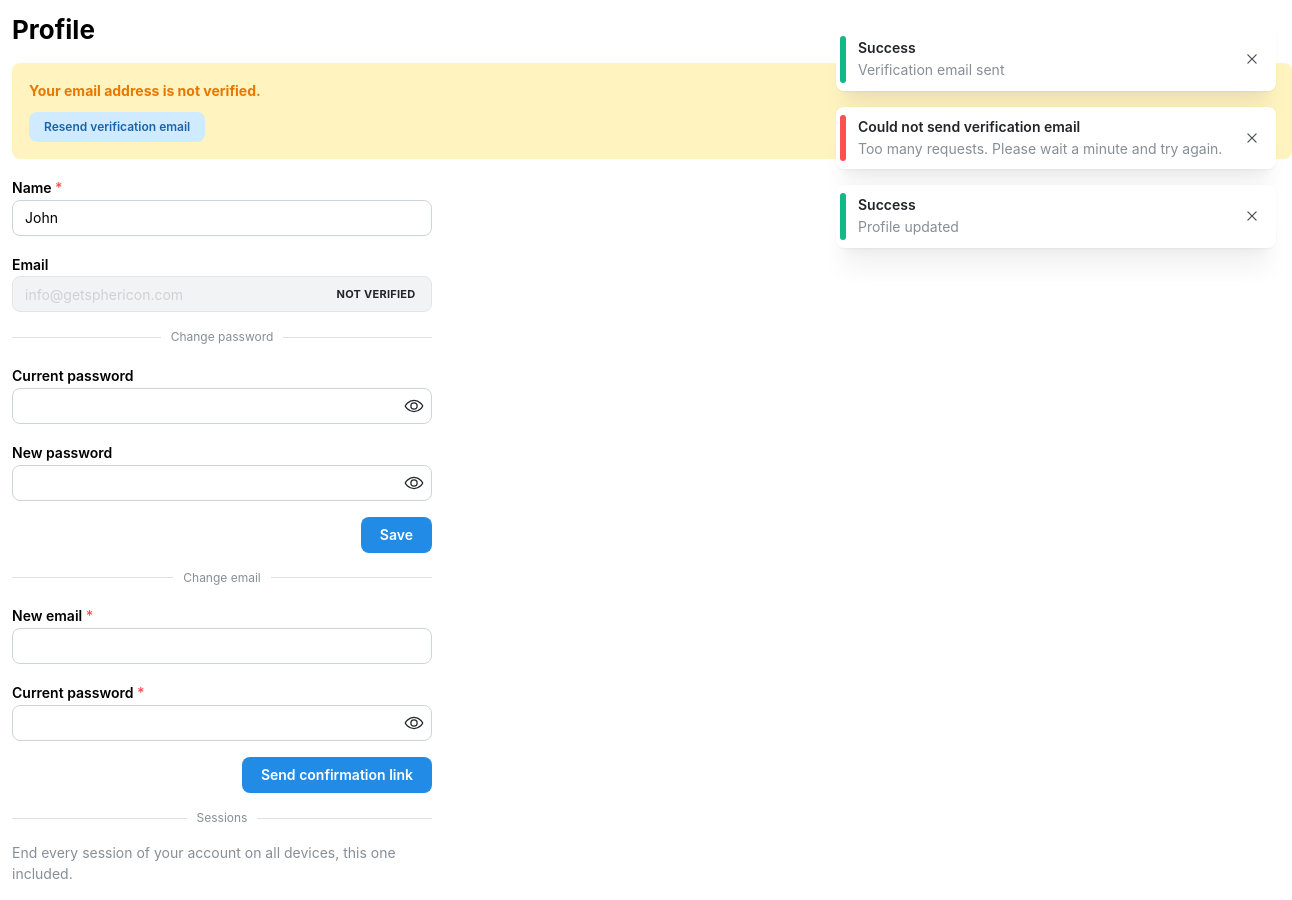
Test: reports a failed profile update
This screenshot has width=1292, height=900.
Expected: the field labelled "Name *" holds "John", [12,200,432,236]
Click the button "Save".
click(396, 535)  # box [361,517,432,553]
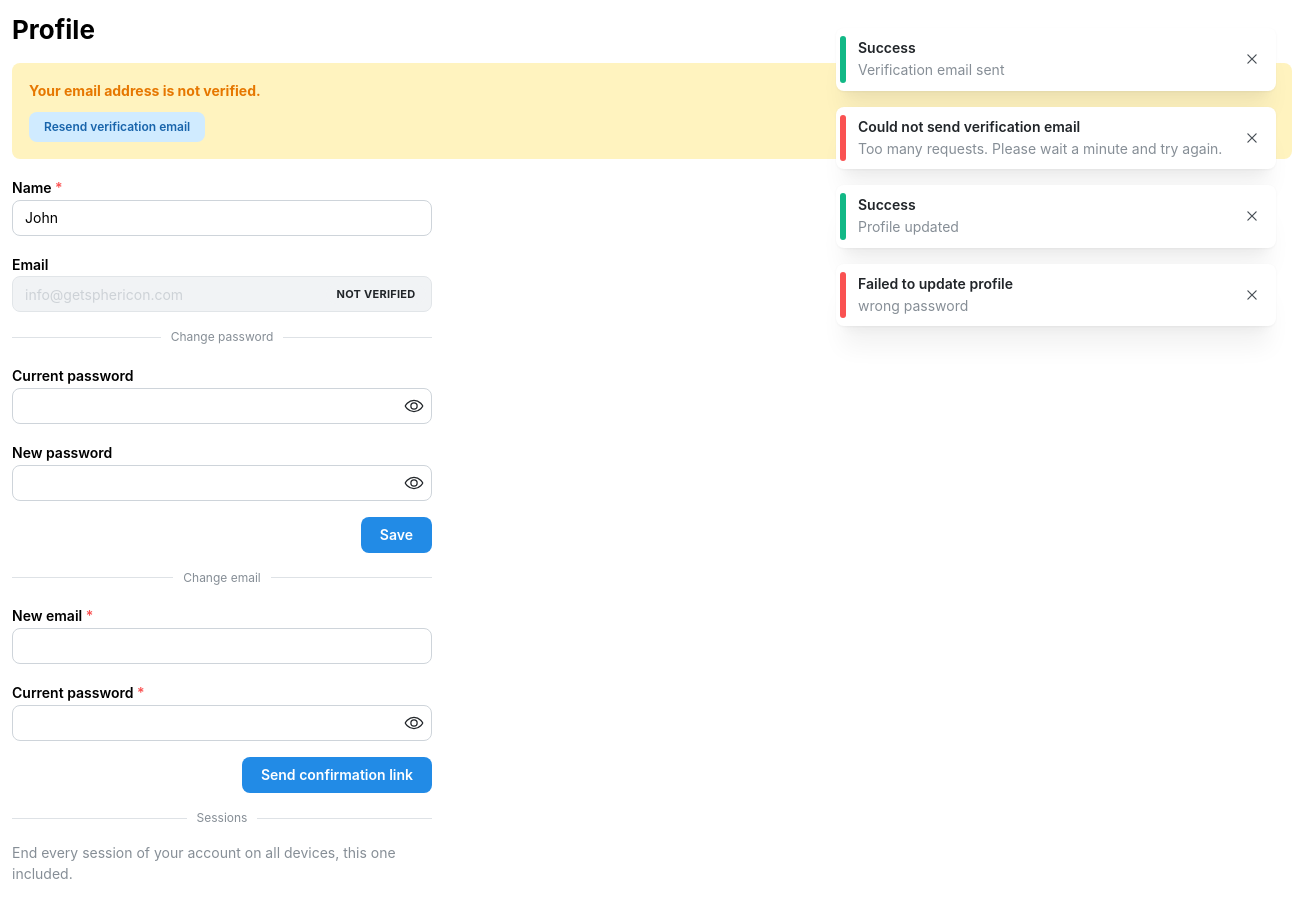
Expected: the text "Failed to update profile" is shown, [858,275,1013,292]
